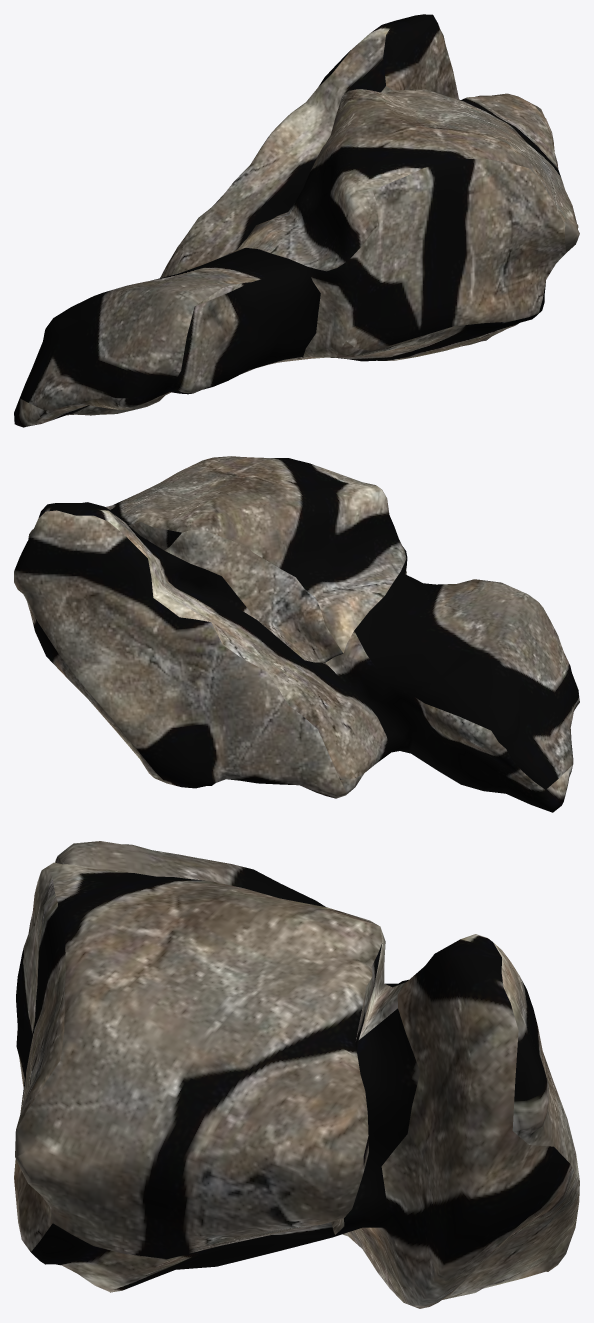
File: rock10.glb
3 renders of one model, top to bottom at view 1: azimuth 30°, elevation 25°; view 2: azimuth 150°, elevation 25°; view 3: azimuth 270°, elevation 25°, orthographic. The views are drawn at different scales.
Visible parts, largest first — view 1: Rock10; view 2: Rock10; view 3: Rock10.
Part boxes in pixels (box(x1,y1,x2,y2)): Rock10: box(14, 14, 579, 427); Rock10: box(14, 456, 579, 812); Rock10: box(14, 841, 579, 1308).
Bounding box in the file's own units: 5.79 × 2.6 × 3.25.
1 material, 1 textured.
